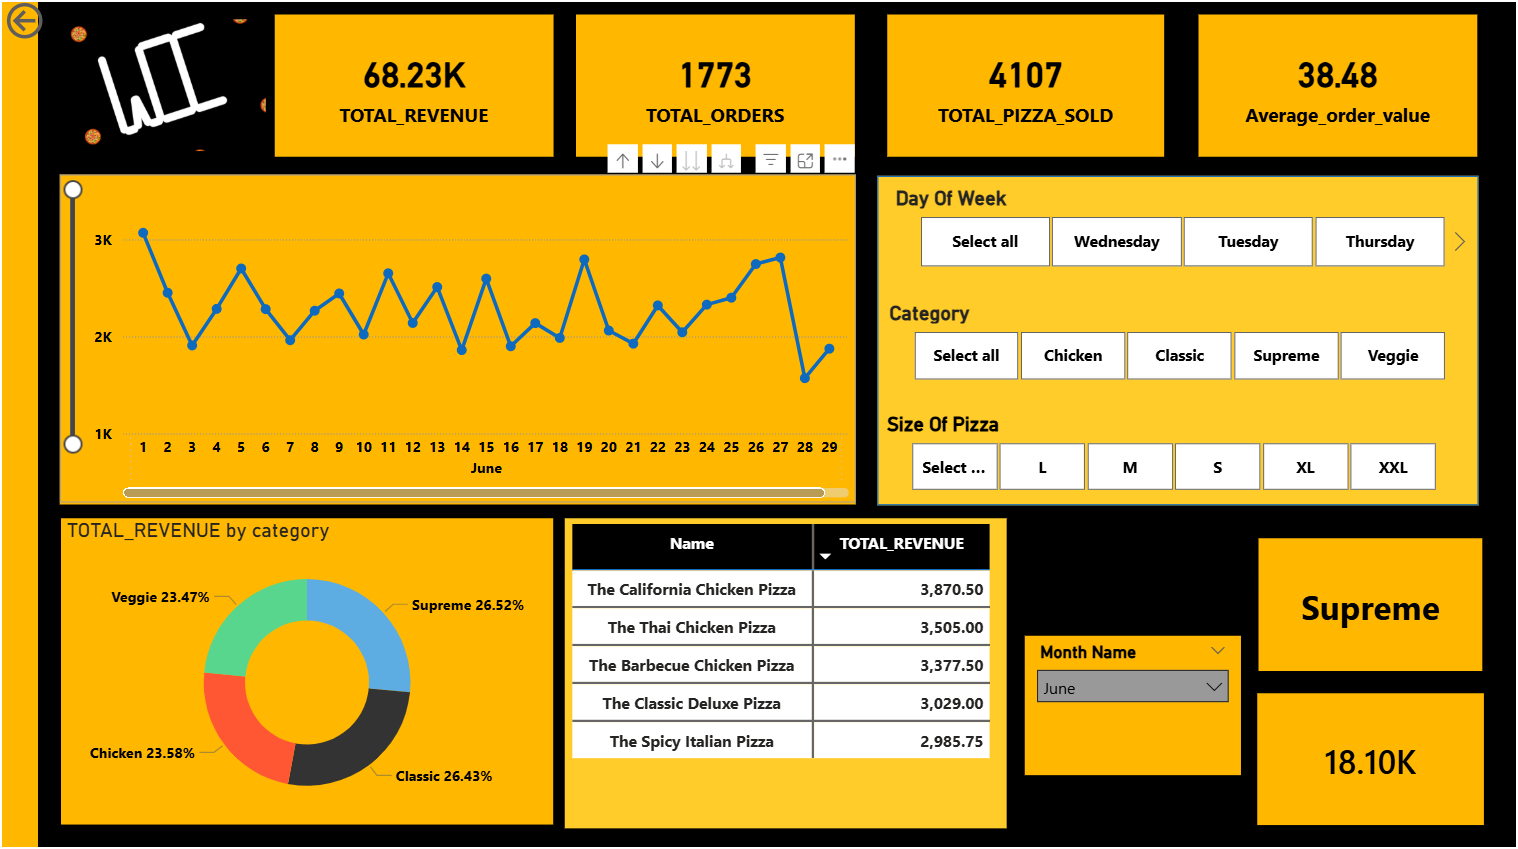

The dashboard page shown, as its layout file describes it:
{"tool":"powerbi","page":{"name":"Business Overview","canvas":[1280,720],"ordinal":0},"visuals":[{"type":"group","id":"g1","title":"Group 1","box":[231.3,14.4,1013.9,119.9],"z":0},{"type":"card","fields":{"Values":["Measure Table.TOTAL_REVENUE"]},"box":[231.3,14.4,235.2,119.7],"z":0,"group":"g1"},{"type":"shape","box":[739,151.2,507.3,278],"z":0,"group":"g2"},{"type":"card","fields":{"Values":["Measure Table.TOTAL_ORDERS"]},"box":[485.2,14.4,235.2,119.7],"z":1000,"group":"g1"},{"type":"lineChart","title":"Monthly Sales Trend","fields":{"Category":["orders.date.Variation.Date Hierarchy.Month","orders.date.Variation.Date Hierarchy.Day"],"Y":["Measure Table.TOTAL_REVENUE"]},"box":[49.8,149.5,671,277.6],"z":1000},{"type":"slicer","title":"Day Of Week","fields":{"Values":["orders.Weekday"]},"box":[749.9,159.5,492,75.1],"z":1000,"group":"g2"},{"type":"cardVisual","fields":{"Data":["Measure Table.Best Category (Selected Month - FORCE FIX)"]},"box":[1061.2,457,189,112.2],"z":1000,"group":"g3"},{"type":"shape","box":[0,0,31.2,720.3],"z":2000},{"type":"card","fields":{"Values":["Measure Table.TOTAL_PIZZA_SOLD"]},"box":[747.8,14.4,233.7,119.7],"z":2000,"group":"g1"},{"type":"slicer","title":"Category","fields":{"Values":["pizza_types.category"]},"box":[744,256.3,497.9,73.7],"z":2000,"group":"g2"},{"type":"cardVisual","fields":{"Data":["Measure Table.Best Category Revenue (Selected Month - FINAL)"]},"box":[1060,587.5,191.5,111],"z":2000,"group":"g3"},{"type":"card","fields":{"Values":["Measure Table.Average_order_value"]},"box":[1010.4,14.4,235.2,119.7],"z":3000,"group":"g1"},{"type":"slicer","title":"Size Of Pizza","fields":{"Values":["pizzas.size"]},"box":[742.5,350.2,492,72.2],"z":3000,"group":"g2"},{"type":"donutChart","fields":{"Y":["Measure Table.TOTAL_REVENUE"],"Category":["pizza_types.category"]},"box":[50.5,440,415.5,258.3],"z":3000},{"type":"group","id":"g2","title":"Group 2","box":[739,151.2,507.3,278],"z":4000},{"type":"tableEx","fields":{"Values":["pizza_types.name","Measure Table.TOTAL_REVENUE"]},"box":[475.1,439.9,372.6,261.6],"z":5000},{"type":"image","box":[50.5,14.4,173.1,119.7],"z":6000},{"type":"group","id":"g3","title":"Group 3","box":[1060,457,191.5,241.5],"z":7000},{"type":"actionButton","box":[0,0,100,40],"z":8000},{"type":"slicer","fields":{"Values":["orders.Month Name"]},"box":[864.1,483,182.2,179.8],"z":9000}]}

Visuals, with their boxes on the page's 1280x720 design canvas (x1, y1, x2, y2). These are canvas units, not pixel positions in the 1518x849 screenshot, which may show the page scaled, cropped or inside an application window:
"Group 1" group: Rect(231, 14, 1245, 134)
card - Measure Table.TOTAL_REVENUE: Rect(231, 14, 466, 134)
shape: Rect(739, 151, 1246, 429)
card - Measure Table.TOTAL_ORDERS: Rect(485, 14, 720, 134)
"Monthly Sales Trend" lineChart: Rect(50, 150, 721, 427)
"Day Of Week" slicer: Rect(750, 160, 1242, 235)
cardVisual - Measure Table.Best Category (Selected Month - FORCE FIX): Rect(1061, 457, 1250, 569)
shape: Rect(0, 0, 31, 720)
card - Measure Table.TOTAL_PIZZA_SOLD: Rect(748, 14, 982, 134)
"Category" slicer: Rect(744, 256, 1242, 330)
cardVisual - Measure Table.Best Category Revenue (Selected Month - FINAL): Rect(1060, 588, 1252, 698)
card - Measure Table.Average_order_value: Rect(1010, 14, 1246, 134)
"Size Of Pizza" slicer: Rect(742, 350, 1234, 422)
donutChart - Measure Table.TOTAL_REVENUE x pizza_types.category: Rect(50, 440, 466, 698)
"Group 2" group: Rect(739, 151, 1246, 429)
tableEx - pizza_types.name x Measure Table.TOTAL_REVENUE: Rect(475, 440, 848, 702)
image: Rect(50, 14, 224, 134)
"Group 3" group: Rect(1060, 457, 1252, 698)
actionButton: Rect(0, 0, 100, 40)
slicer - orders.Month Name: Rect(864, 483, 1046, 663)
